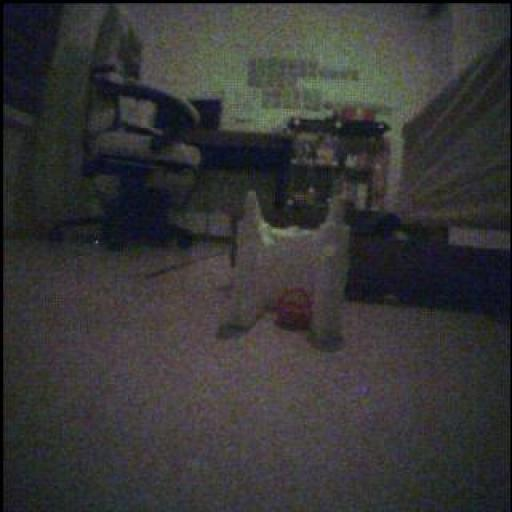basket: (276, 289, 313, 331)
